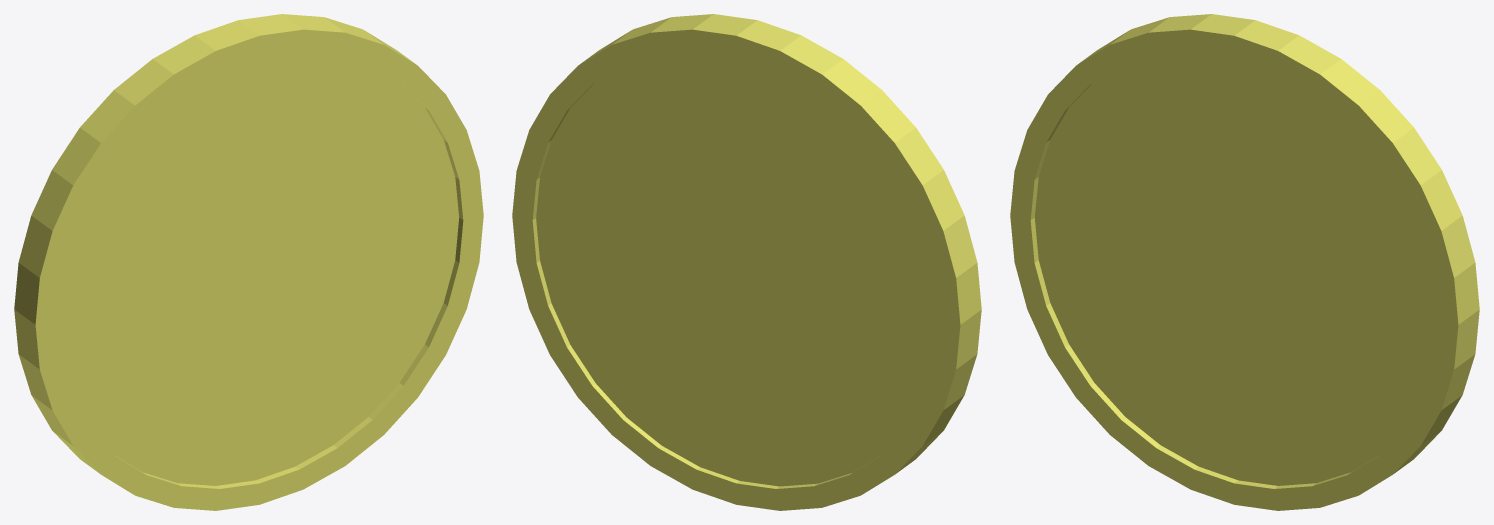
File: coin.fbx
3 renders of one model, left to right at view 1: azimuth 30°, elevation 25°; view 2: azimuth 150°, elevation 25°; view 3: azimuth 330°, elevation 25°, orthographic.
Parts seen in each view (by area): view 1: Cylinder; view 2: Cylinder; view 3: Cylinder.
Boxes of the visible parts, x1,y1,x2,y2 form: Cylinder: [14, 14, 483, 510]; Cylinder: [512, 14, 981, 510]; Cylinder: [1010, 14, 1479, 510].
Size of the model in its own units: 200 by 200 by 16.48.
